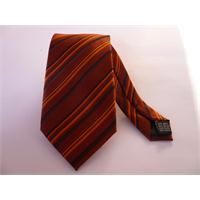tie: (40, 34, 172, 170)
